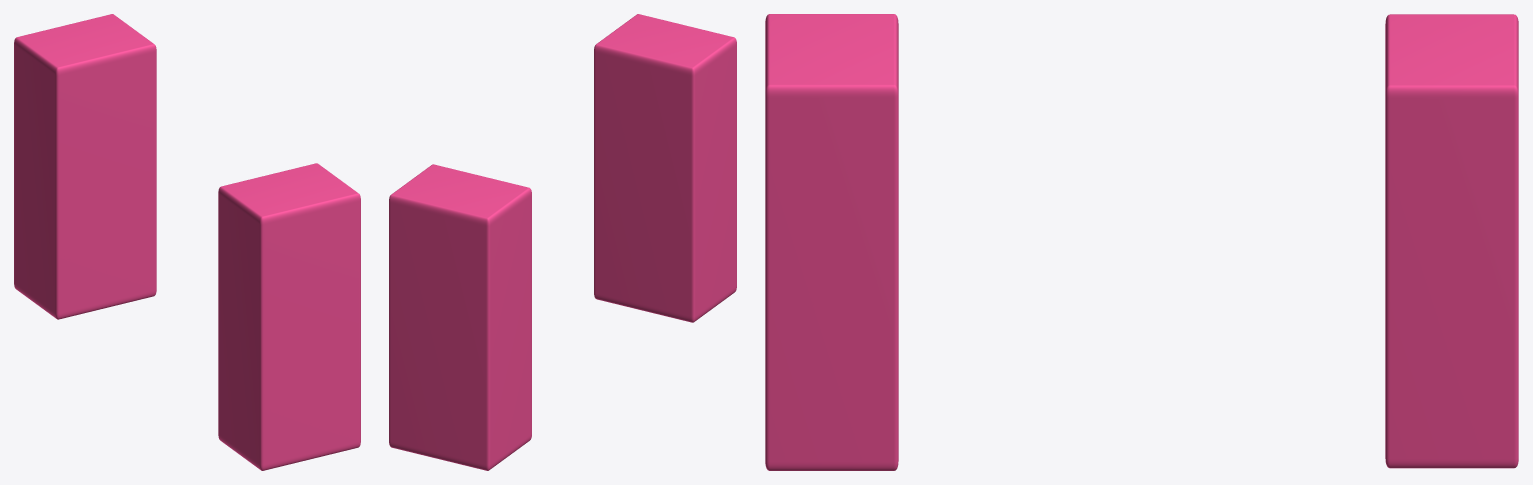
The model's file is BrokenWallPart1.fbx.
3 renders of one model, left to right at view 1: azimuth 30°, elevation 25°; view 2: azimuth 150°, elevation 25°; view 3: azimuth 270°, elevation 25°, orthographic. The views are drawn at different scales.
Parts seen in each view (by area): view 1: Plane.001; view 2: Plane.001; view 3: Plane.001.
Part boxes in pixels (left/top/right/bottom): Plane.001: left=14, top=14, right=360, bottom=470; Plane.001: left=389, top=14, right=736, bottom=470; Plane.001: left=765, top=14, right=1518, bottom=470.
Bounding box in the file's own units: 147 × 356 × 629.
